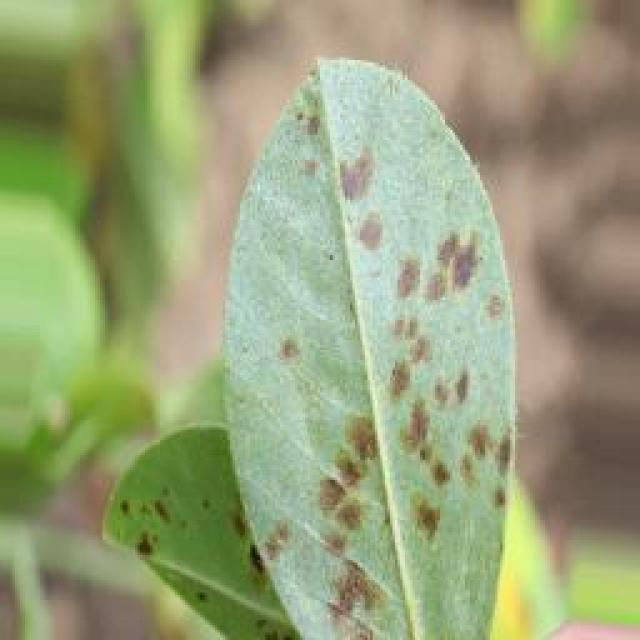Whitefly: (95, 30, 543, 640)
